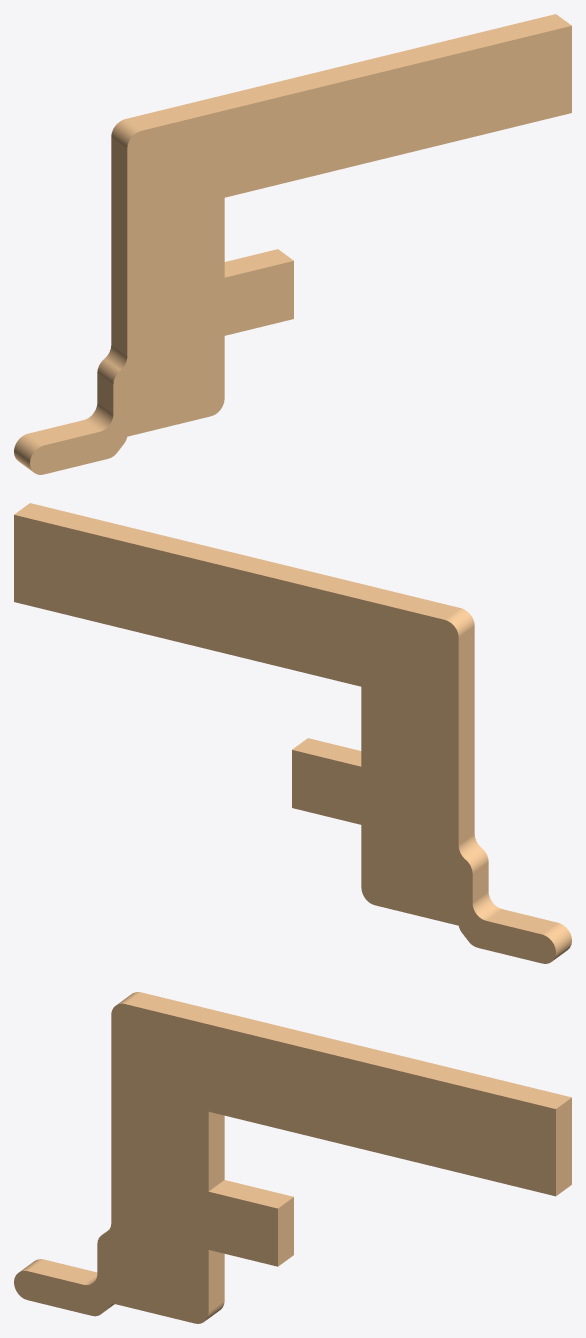
The model's file is Main_SHXX_PIN_2.dae.
3 views of the same model, one above another, from view 1: azimuth 30°, elevation 25°; view 2: azimuth 150°, elevation 25°; view 3: azimuth 330°, elevation 25° (orthographic).
Visible parts, largest first — view 1: Main_SHXX_PIN_2; view 2: Main_SHXX_PIN_2; view 3: Main_SHXX_PIN_2.
Boxes of the visible parts, bbox=[...] form: Main_SHXX_PIN_2: bbox=[14, 14, 571, 474]; Main_SHXX_PIN_2: bbox=[14, 503, 571, 963]; Main_SHXX_PIN_2: bbox=[14, 992, 571, 1323].
Size of the model in its own units: 0.0039 by 0.0002 by 0.0022.
